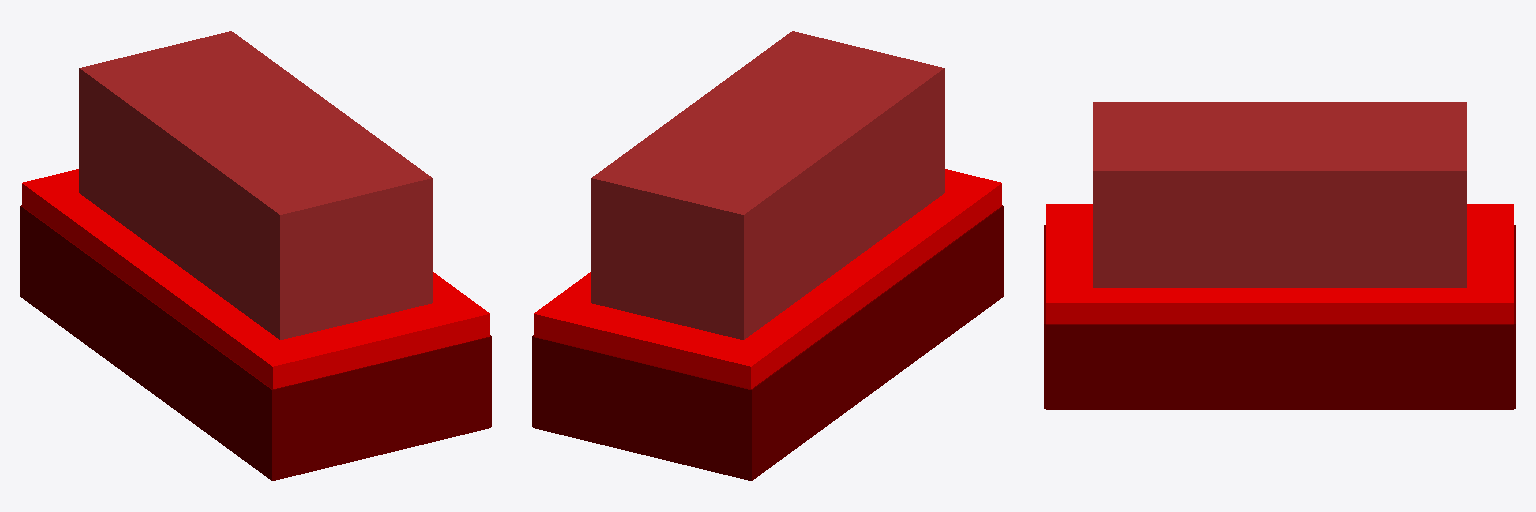
The robot description file, URDF, robot "cube_with_handles":
<?xml version="1.0"?>
<robot name="cube_with_handles">

  <link name="main_surf">
    <inertial>
      <origin rpy="0 0 0" xyz="0 0 0.0"/>
      <mass value="0.2"/>
      <inertia ixx="0.0001" ixy="0" ixz="0" iyy="0.0001" iyz="0" izz="0.0001"/>
    </inertial>
    <visual>
      <origin xyz="0 0 0"/>
      <geometry>
        <box size="0.1 0.2 0.03" />
      </geometry>
      <material name="red2">
        <color rgba="1 0. 0 1.0"/>
      </material>
    </visual>
    <collision>
      <origin xyz="0 0 0"/>
      <geometry>
        <box size="0.1 0.2 0.03" />
      </geometry>
    </collision>
  </link>

<joint name="tubes" type="fixed">    
    <origin rpy="0 0 3.14159265359" xyz="0 0. 0.035"/>    
    <parent link="main_surf"/>
    <child link="tubes"/>
  </joint>
  <link name="tubes">
    <inertial>
      <origin rpy="0 0 0" xyz="0 0 0"/>
      <mass value="0.00"/>
      <inertia ixx="0.0001" ixy="0" ixz="0" iyy="0.0001" iyz="0" izz="0.0001"/>
    </inertial>
    <visual>
      <origin xyz="0 0 0"/>
      <geometry>
        <box size="0.07 0.16 0.07" />
      </geometry>
      <material name="gray">
        <color rgba="0.7 0.2 0.2 1.0"/>
      </material>
    </visual>
    <collision>
      <origin xyz="0 0 0"/>
      <geometry>
        <box size="0.07 0.16 0.07" />
      </geometry>
    </collision>
  </link>

<joint name="edge1" type="fixed">    
    <origin rpy="0 0 3.14159265359" xyz="0 0.1 -0.015"/>    
    <parent link="main_surf"/>
    <child link="edge_1"/>
  </joint>
  <link name="edge_1">
    <inertial>
      <origin rpy="0 0 0" xyz="0 0 0"/>
      <mass value="0.00"/>
      <inertia ixx="0.0001" ixy="0" ixz="0" iyy="0.0001" iyz="0" izz="0.0001"/>
    </inertial>
    <visual>
      <origin xyz="0 0 0"/>
      <geometry>
        <box size="0.1 0.001 0.04" />
      </geometry>
      <material name="red">
        <color rgba="0.5 0. 0 1.0"/>
      </material>
    </visual>
    <collision>
      <origin xyz="0 0 0"/>
      <geometry>
        <box size="0.1 0.001 0.04" />
      </geometry>
    </collision>
  </link>

<joint name="edge2" type="fixed">    
    <origin rpy="0 0 3.14159265359" xyz="0 -0.1 -0.015"/>    
    <parent link="main_surf"/>
    <child link="edge_2"/>
  </joint>
  <link name="edge_2">
    <inertial>
      <origin rpy="0 0 0" xyz="0 0 0"/>
      <mass value="0.00"/>
      <inertia ixx="0.0001" ixy="0" ixz="0" iyy="0.0001" iyz="0" izz="0.0001"/>
    </inertial>
    <visual>
      <origin xyz="0 0 0"/>
      <geometry>
        <box size="0.1 0.001 0.04" />
      </geometry>
      <material name="red">
        <color rgba="0.5 0. 0 1.0"/>
      </material>
    </visual>
    <collision>
      <origin xyz="0 0 0"/>
      <geometry>
        <box size="0.1 0.001 0.04" />
      </geometry>
    </collision>
  </link>

<joint name="edge3" type="fixed">    
    <origin rpy="0 0 3.14159265359" xyz="-0.05 -0. -0.015"/>    
    <parent link="main_surf"/>
    <child link="edge_3"/>
  </joint>
  <link name="edge_3">
    <inertial>
      <origin rpy="0 0 0" xyz="0 0 0"/>
      <mass value="0.05"/>
      <inertia ixx="0.0001" ixy="0" ixz="0" iyy="0.0001" iyz="0" izz="0.0001"/>
    </inertial>
    <visual>
      <origin xyz="0 0 0"/>
      <geometry>
        <box size="0.001 0.2 0.04" />
      </geometry>
      <material name="red">
        <color rgba="0.5 0. 0 1.0"/>
      </material>
    </visual>
    <collision>
      <origin xyz="0 0 0"/>
      <geometry>
        <box size="0.001 0.2 0.04" />
      </geometry>
    </collision>
  </link>


<joint name="edge4" type="fixed">    
    <origin rpy="0 0 -3.14159265359" xyz="0.05 -0. -0.015"/>    
    <parent link="main_surf"/>
    <child link="edge_4"/>
  </joint>
  <link name="edge_4">
    <inertial>
      <origin rpy="0 0 0" xyz="0 0 0"/>
      <mass value="0.05"/>
      <inertia ixx="0.0001" ixy="0" ixz="0" iyy="0.0001" iyz="0" izz="0.0001"/>
    </inertial>
    <visual>
      <origin xyz="0 0 0"/>
      <geometry>
        <box size="0.001 0.2 0.04" />
      </geometry>
      <material name="red">
        <color rgba="0.5 0. 0 1.0"/>
      </material>
    </visual>
    <collision>
      <origin xyz="0 0 0"/>
      <geometry>
        <box size="0.001 0.2 0.04" />
      </geometry>
    </collision>
  </link>


</robot>

--- What the picture shows (computed from the rendered views, not written in the file) ---
Views: 3 orthographic renders of the robot side by side, from view 1: azimuth 30°, elevation 25°; view 2: azimuth 150°, elevation 25°; view 3: azimuth 270°, elevation 25°.
Model cube_with_handles with 6 links and 5 joints (5 fixed), rooted at main_surf, posed every joint at zero.
Links seen in each view (by area): view 1: tubes, main_surf, edge_3, edge_2; view 2: tubes, main_surf, edge_3, edge_1; view 3: tubes, edge_4, main_surf.
Boxes of the visible links, x1,y1,x2,y2 form: tubes: (79,31,432,339); main_surf: (22,169,489,388); edge_3: (20,206,272,480); edge_2: (273,337,490,480); tubes: (591,31,944,339); main_surf: (534,169,1001,388); edge_3: (751,206,1003,480); edge_1: (533,337,750,480); tubes: (1093,102,1466,287); edge_4: (1046,324,1513,409); main_surf: (1046,204,1513,323).
Bounding box of the posed robot: 0.101 × 0.201 × 0.105 m (x, y, z).
Geometry: primitives only (box / cylinder / sphere), no mesh files.